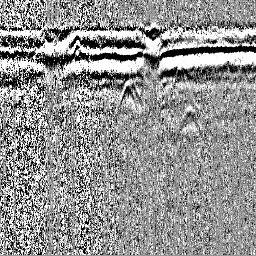cavity: (117, 82, 136, 109)
